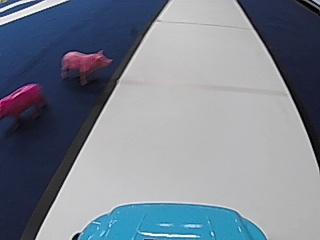pig: (1, 80, 48, 129), (59, 46, 114, 87)
